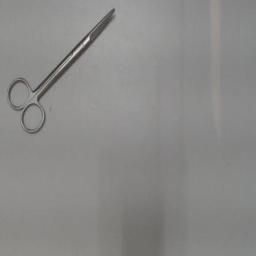Curved Mayo Scissors: (3, 2, 119, 142)
